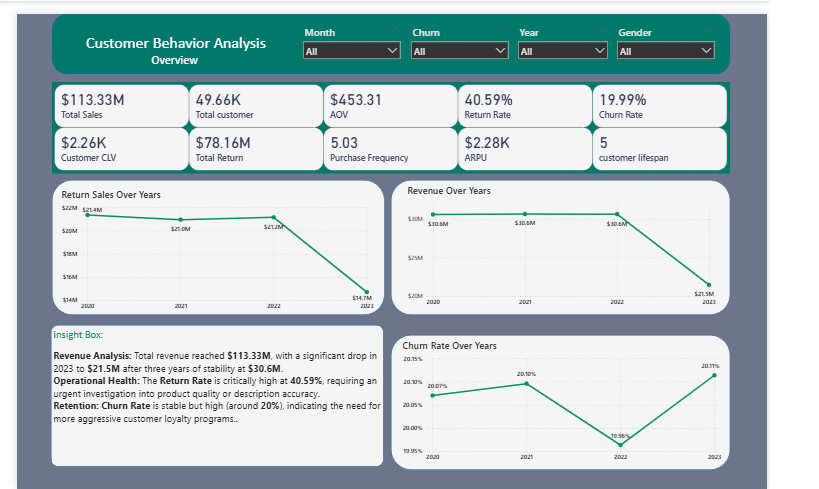

This screenshot's page, from the dashboard's own definition file:
{"tool":"powerbi","page":{"name":"Overview","canvas":[1500,950],"ordinal":0},"visuals":[{"type":"cardVisual","fields":{"Data":["ecommerce_customer_data_large.Total Sales","ecommerce_customer_data_large.Total customer","ecommerce_customer_data_large.AOV","ecommerce_customer_data_large.Return Rate","ecommerce_customer_data_large.Churn Rate","ecommerce_customer_data_large.Customer CLV","ecommerce_customer_data_large.Total Return","ecommerce_customer_data_large.Purchase Frequency","ecommerce_customer_data_large.ARPU(Avg Revenue by User)","ecommerce_customer_data_large.customer lifespan"]},"box":[70.9,135.8,1356.3,183.1],"z":0},{"type":"shape","box":[70.9,0,1356.3,120.1],"z":1000},{"type":"shape","box":[748.6,332.5,678.3,269.8],"z":2000},{"type":"textbox","box":[110.2,32.3,416.1,87.4],"z":3000},{"type":"slicer","fields":{"Values":["ecommerce_customer_data_large.Gender"]},"box":[1189.4,15.2,214.7,89.3],"z":4000},{"type":"slicer","fields":{"Values":["ecommerce_customer_data_large.Year"]},"box":[991.8,15.2,199.5,89.3],"z":5000},{"type":"slicer","fields":{"Values":["ecommerce_customer_data_large.Churn"]},"box":[777.1,15.2,214.7,83.6],"z":6000},{"type":"slicer","fields":{"Values":["Calendar.Month"]},"box":[562.4,15.2,214.7,83.6],"z":7000},{"type":"shape","box":[70.3,332.5,665,269.8],"z":8000},{"type":"shape","box":[748.6,642.2,678.3,269.8],"z":9000},{"type":"lineChart","title":"Revenue Over Years","fields":{"Y":["ecommerce_customer_data_large.Total Sales"],"Category":["ecommerce_customer_data_large.Year"]},"box":[775.2,340.1,627,254.6],"z":10000},{"type":"lineChart","title":"Return Sales Over Years","fields":{"Y":["ecommerce_customer_data_large.Total Return"],"Category":["ecommerce_customer_data_large.Year"]},"box":[83.6,347.7,634.6,254.6],"z":11000},{"type":"lineChart","title":"Churn Rate Over Years","fields":{"Category":["ecommerce_customer_data_large.Year"],"Y":["ecommerce_customer_data_large.Churn Rate"]},"box":[765.7,649.8,647.9,254.6],"z":12000},{"type":"shape","box":[68.4,621.3,665,283.1],"z":13000},{"type":"textbox","box":[68.4,621.3,666.9,281.2],"z":14000}]}

Visuals, with their boxes on the page's 1500x950 design canvas (x1, y1, x2, y2). These are canvas units, not pixel positions in the 819x489 screenshot, which may show the page scaled, cropped or inside an application window:
cardVisual - ecommerce_customer_data_large.Total Sales x ecommerce_customer_data_large.Total customer: bbox=[71, 136, 1427, 319]
shape: bbox=[71, 0, 1427, 120]
shape: bbox=[749, 332, 1427, 602]
textbox: bbox=[110, 32, 526, 120]
slicer - ecommerce_customer_data_large.Gender: bbox=[1189, 15, 1404, 104]
slicer - ecommerce_customer_data_large.Year: bbox=[992, 15, 1191, 104]
slicer - ecommerce_customer_data_large.Churn: bbox=[777, 15, 992, 99]
slicer - Calendar.Month: bbox=[562, 15, 777, 99]
shape: bbox=[70, 332, 735, 602]
shape: bbox=[749, 642, 1427, 912]
"Revenue Over Years" lineChart: bbox=[775, 340, 1402, 595]
"Return Sales Over Years" lineChart: bbox=[84, 348, 718, 602]
"Churn Rate Over Years" lineChart: bbox=[766, 650, 1414, 904]
shape: bbox=[68, 621, 733, 904]
textbox: bbox=[68, 621, 735, 902]
